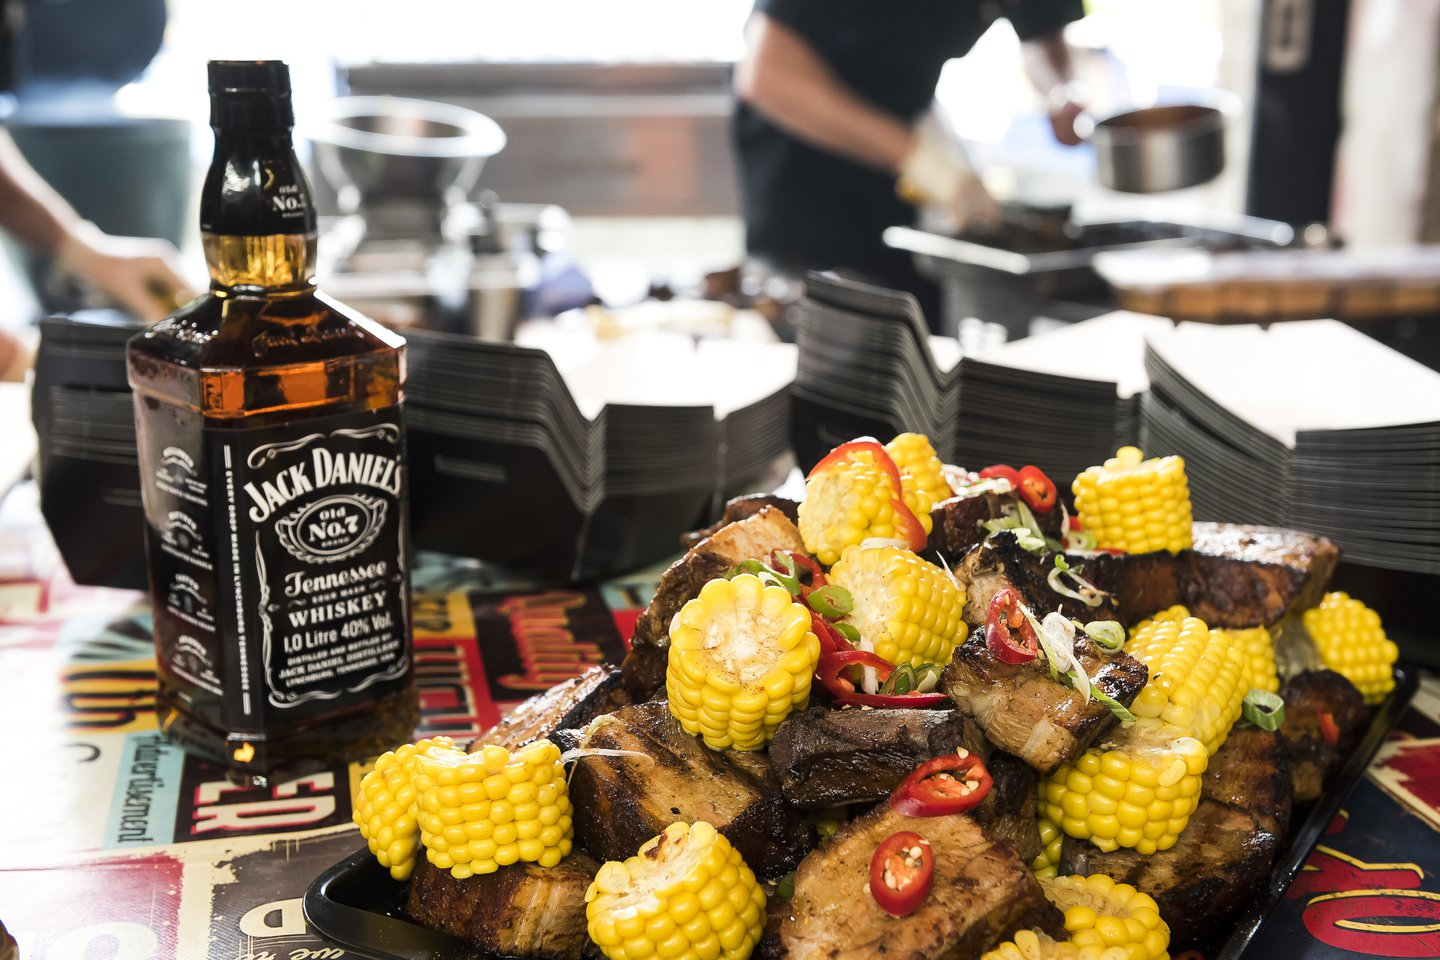Jack Daniel: (116, 51, 425, 746)
